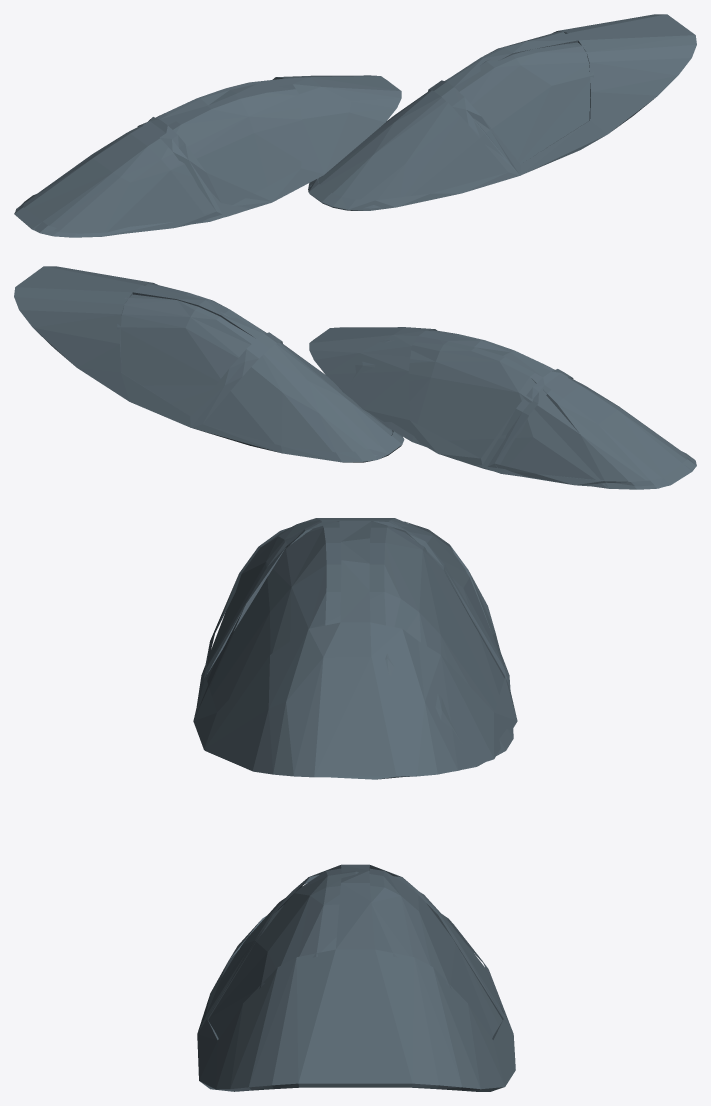
Rendered from su57.glass.glb.
3 views of the same model, one above another, from view 1: azimuth 30°, elevation 25°; view 2: azimuth 150°, elevation 25°; view 3: azimuth 270°, elevation 25° (orthographic). The views are drawn at different scales.
Visible parts, largest first — view 1: glass; view 2: glass; view 3: glass.
Part boxes in pixels (bbox=[...]): glass: bbox=[14, 14, 696, 237]; glass: bbox=[14, 266, 696, 489]; glass: bbox=[193, 518, 517, 1091].
Bounding box in the file's own units: 6.08 × 1.15 × 1.3.
